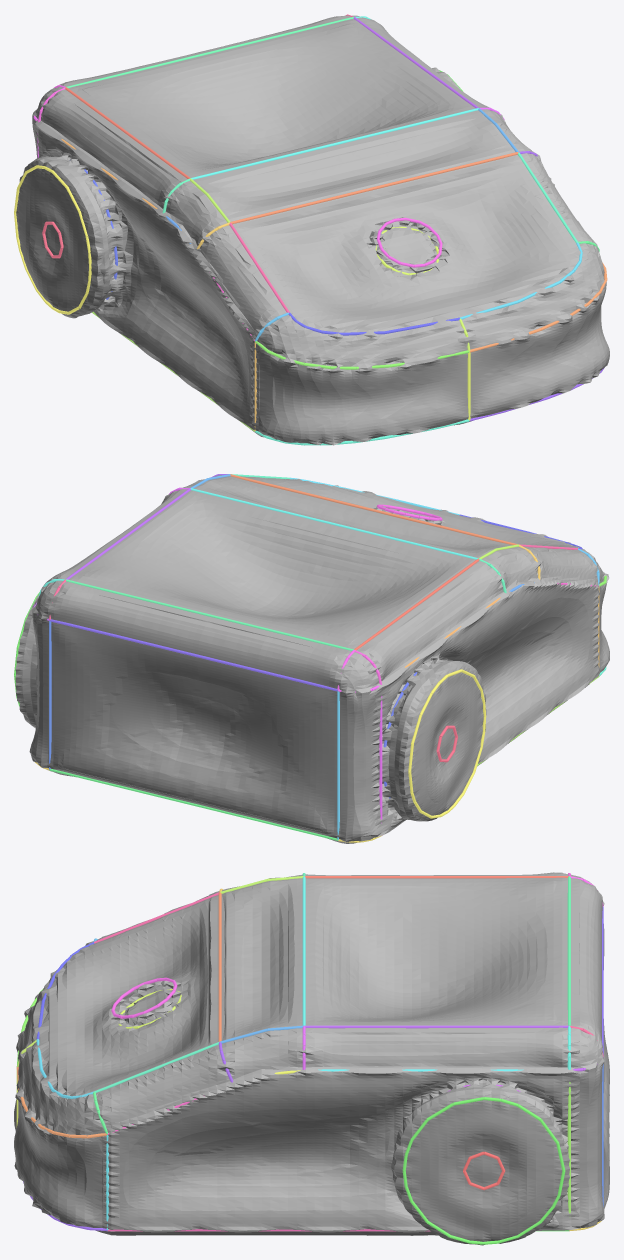
Rendered from onshape_vacuum.gltf.
3 views of the same model, one above another, from view 1: azimuth 30°, elevation 25°; view 2: azimuth 150°, elevation 25°; view 3: azimuth 270°, elevation 25° (orthographic). The views are drawn at different scales.
Size of the model in its own units: 0.6282 by 0.2946 by 0.7577.
